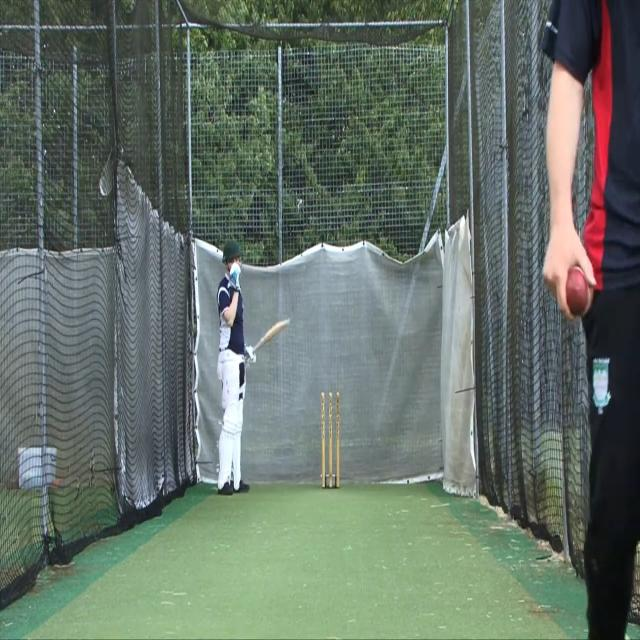batsman: (214, 238, 291, 498)
